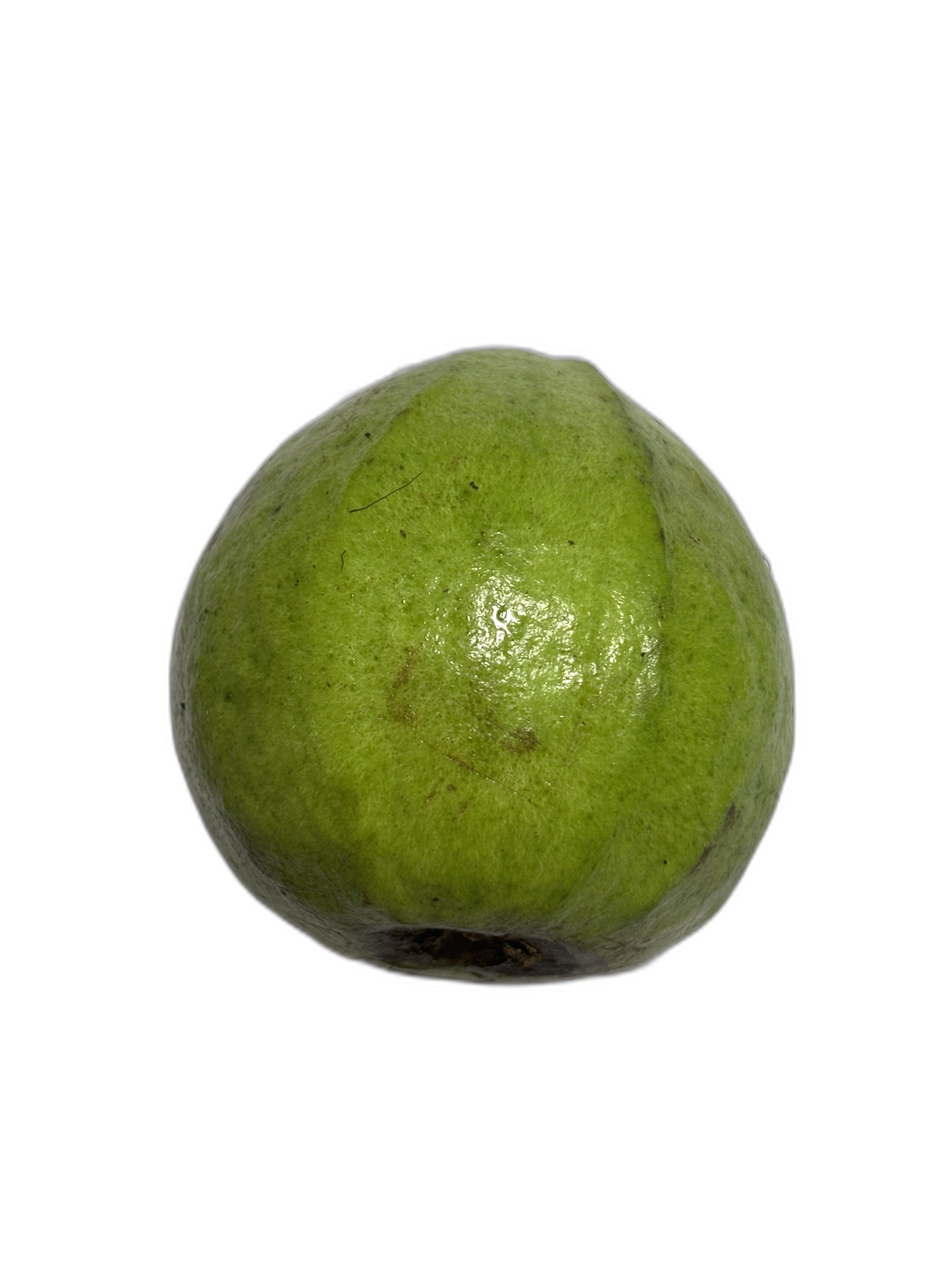guava: (198, 158, 798, 1028)
